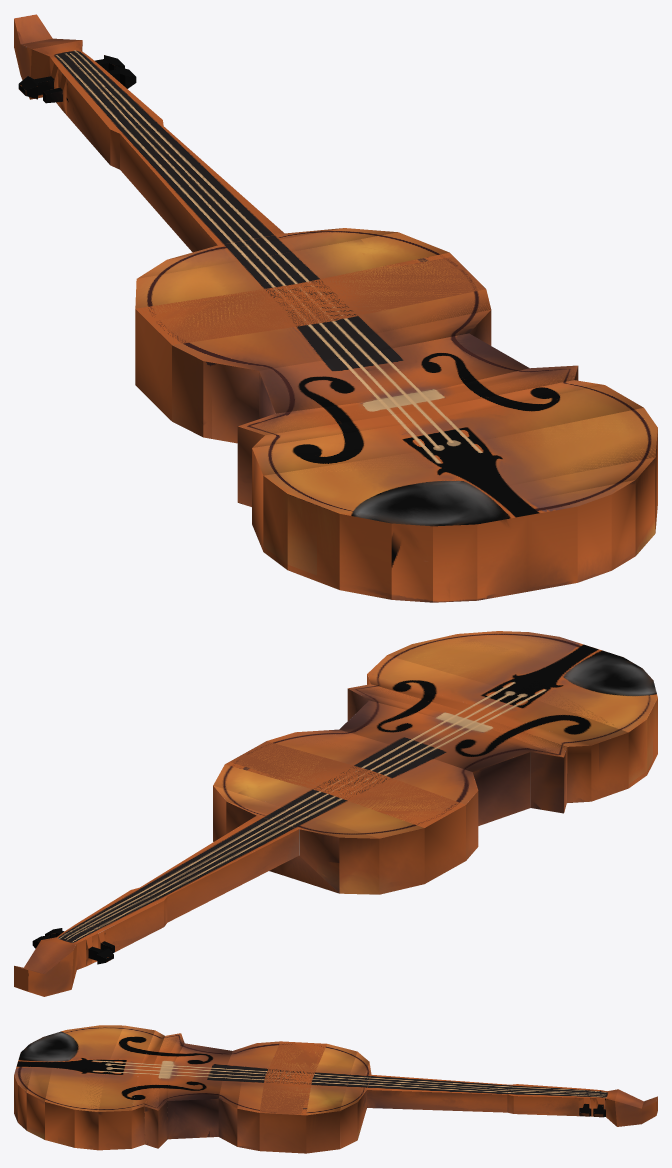
File: Violin.obj
3 views of the same model, one above another, from view 1: azimuth 30°, elevation 25°; view 2: azimuth 150°, elevation 25°; view 3: azimuth 270°, elevation 25° (orthographic). The views are drawn at different scales.
Visible parts, largest first — view 1: Violin; view 2: Violin; view 3: Violin.
Part boxes in pixels (x1,y1,x2,y2): Violin: [14, 14, 657, 602]; Violin: [14, 631, 657, 996]; Violin: [14, 1025, 657, 1153].
Bounding box in the file's own units: 1.49 × 0.3016 × 4.51.
Materials: 1 (1 with a texture image).
